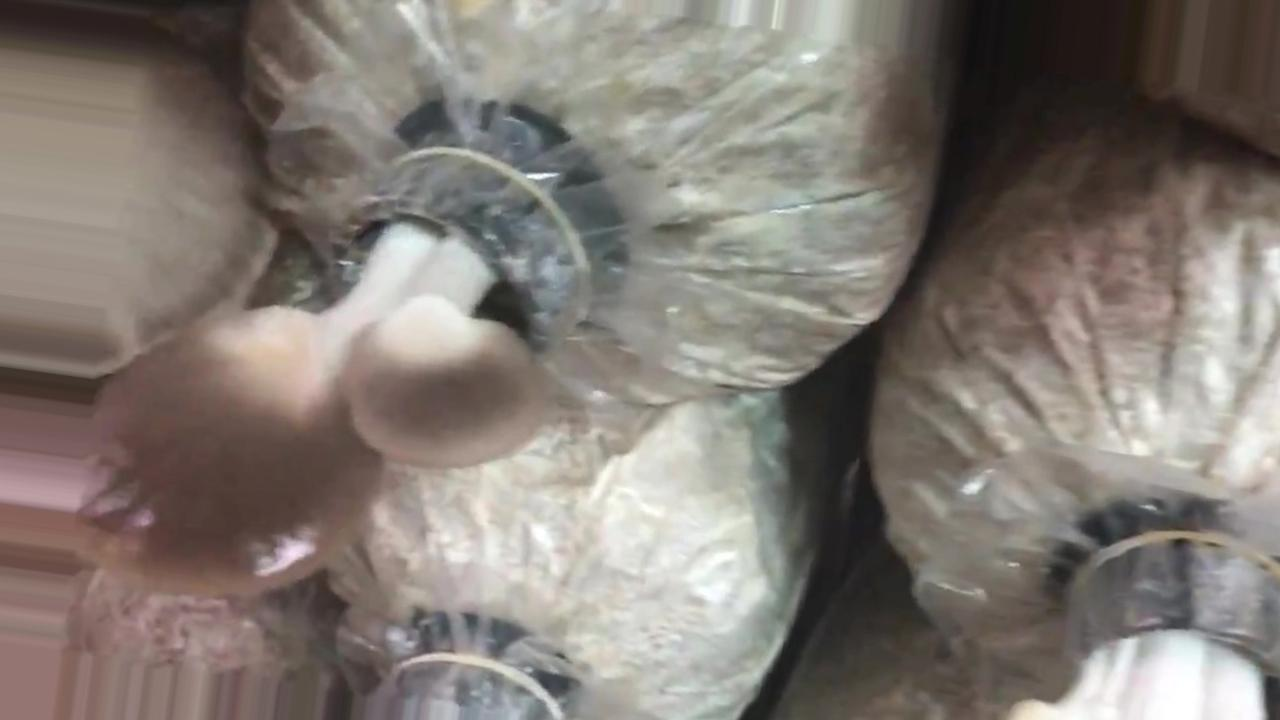nam: (93, 138, 584, 599)
